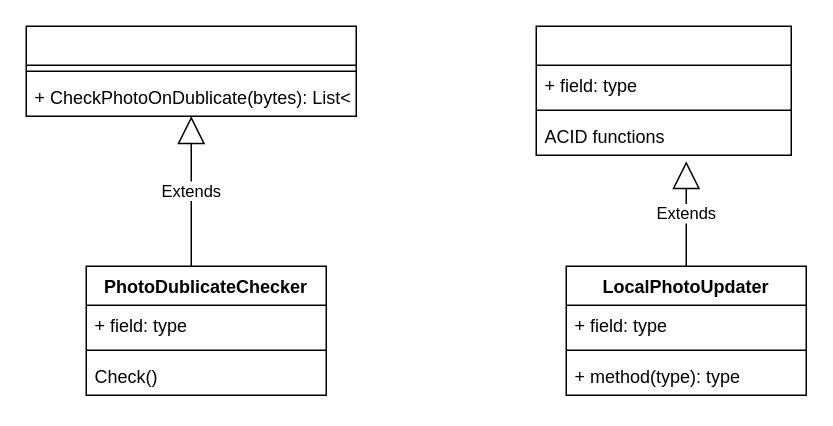
The diagram is 833 pixels wide and 426 high, and some of its shapes have lost their labels. Here are the shapes that lost their labels. From the top down, the box of each, then its label:
(25, 25, 356, 116): ICheckPhoto
(535, 25, 791, 155): IUpdateLocalPhoto
